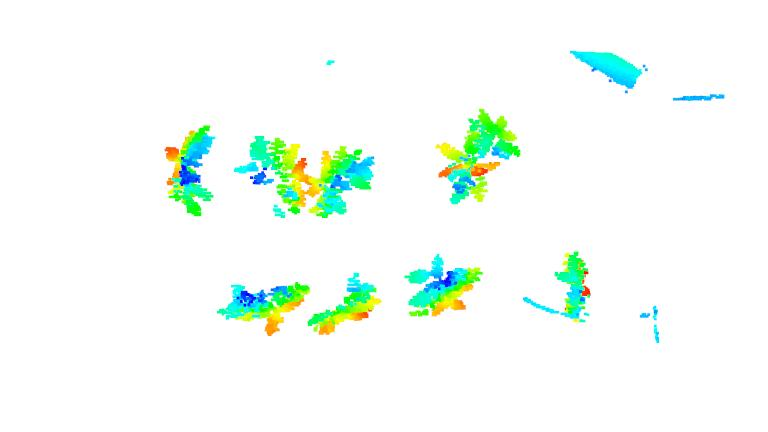chickpea: (437, 109, 518, 206), (237, 132, 311, 219), (306, 142, 380, 220), (160, 123, 218, 216), (220, 279, 310, 335), (406, 254, 484, 316), (303, 273, 381, 335), (553, 245, 596, 320)
